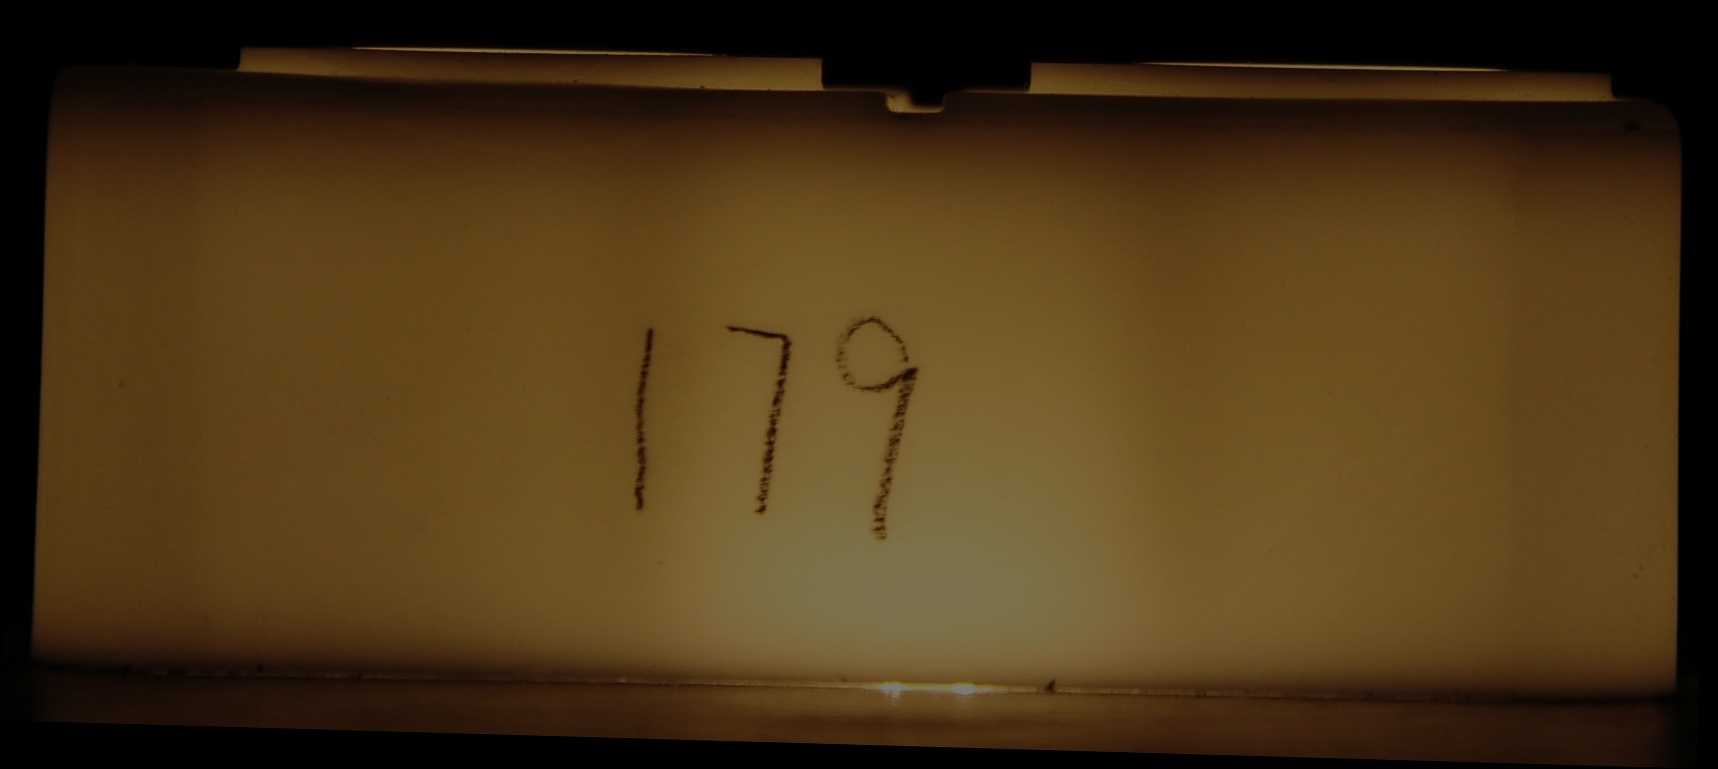flaw: (354, 106, 765, 185)
